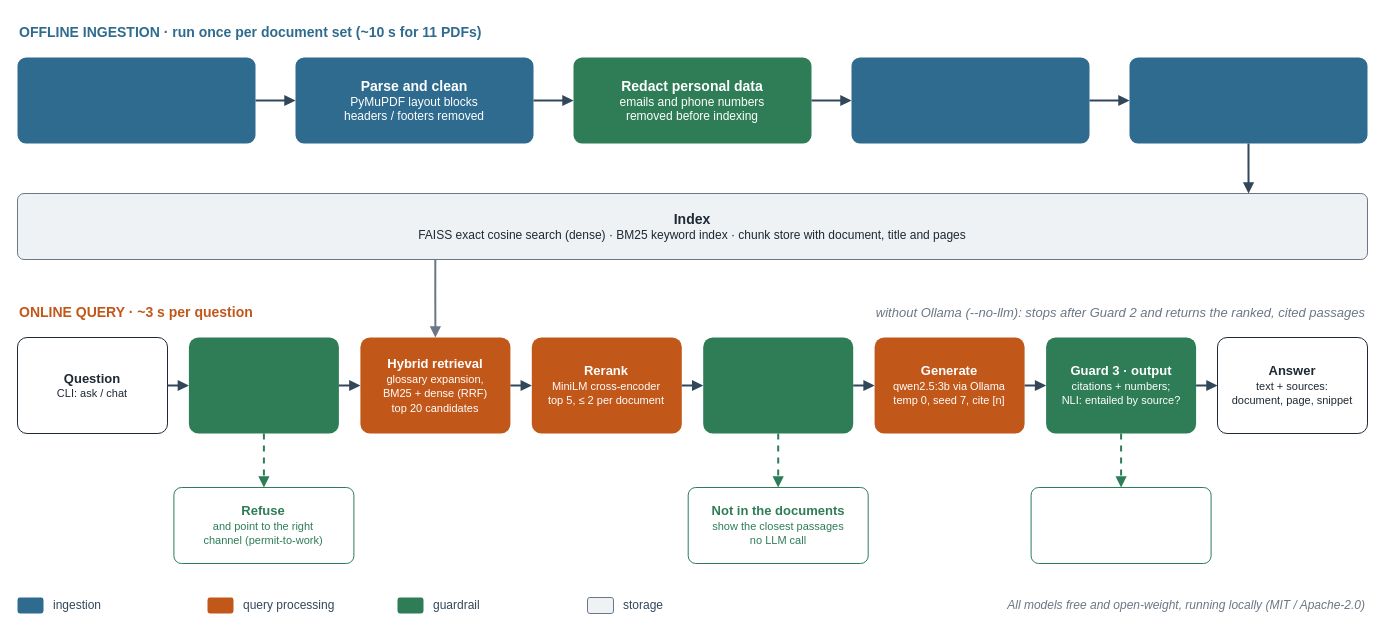
Some shapes in this 1385 by 637 pixel diagram are drawn without their labels. Each missing label, with the centre of its shape:
11 PDFs manuals, SOPs, troubleshooting guides: pixel 136 100
Chunk ~250 words, 50 overlap title + page range kept: pixel 970 100
Embed bge-small-en-v1.5 384-d, CPU: pixel 1248 100
Guard 1 · input safety bypass, personal data, prompt injection: pixel 263 385
Guard 2 · relevance best rerank score below −4 → decline: pixel 778 385
Retry once then quote the top passage; weak support → warning: pixel 1120 525
